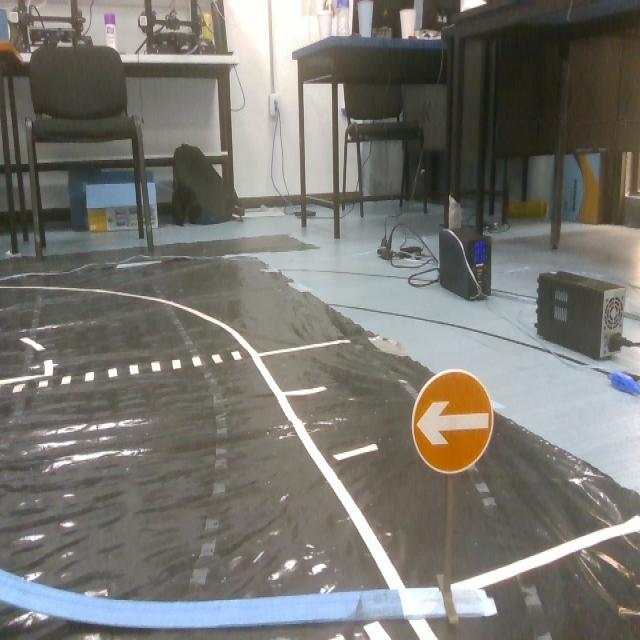forward: (412, 367, 492, 477)
